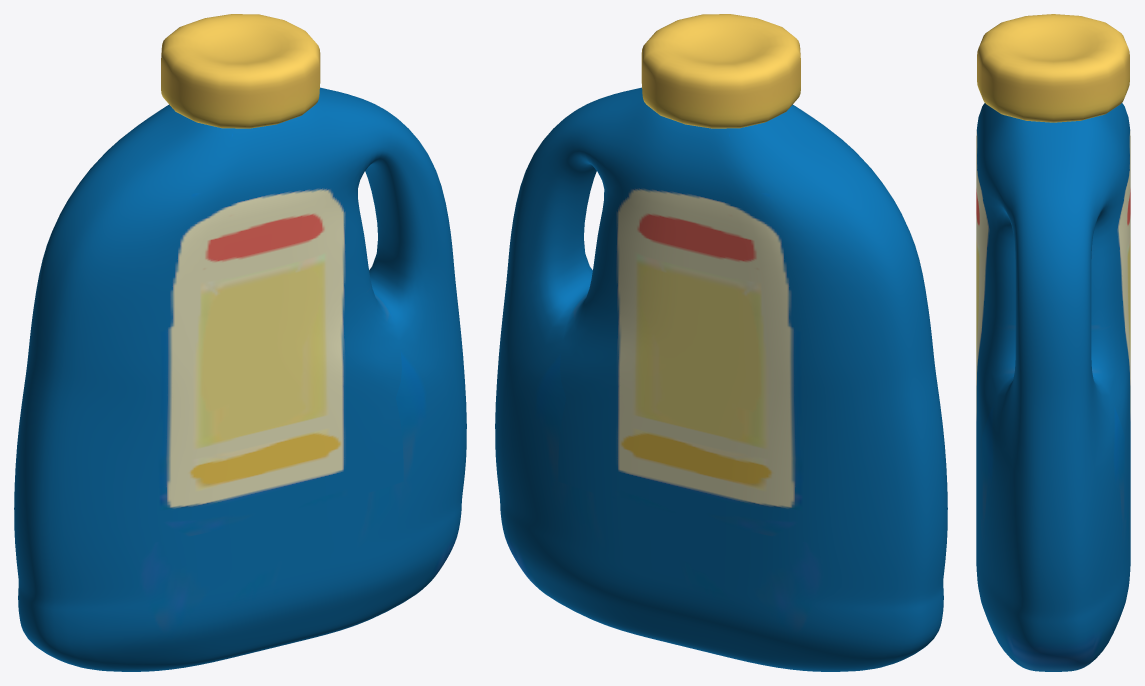
The model's file is Deter1.glb.
3 views of the same model, side by side, from view 1: azimuth 30°, elevation 25°; view 2: azimuth 150°, elevation 25°; view 3: azimuth 270°, elevation 25° (orthographic). The views are drawn at different scales.
Parts seen in each view (by area): view 1: detergents.007; view 2: detergents.007; view 3: detergents.007.
Boxes of the visible parts, box(x1,y1,x2,y2) form: detergents.007: box(14, 14, 466, 671); detergents.007: box(495, 14, 947, 671); detergents.007: box(976, 14, 1130, 671).
Bounding box in the file's own units: 0.3739 × 0.4854 × 0.12.
1 material, 1 textured.
